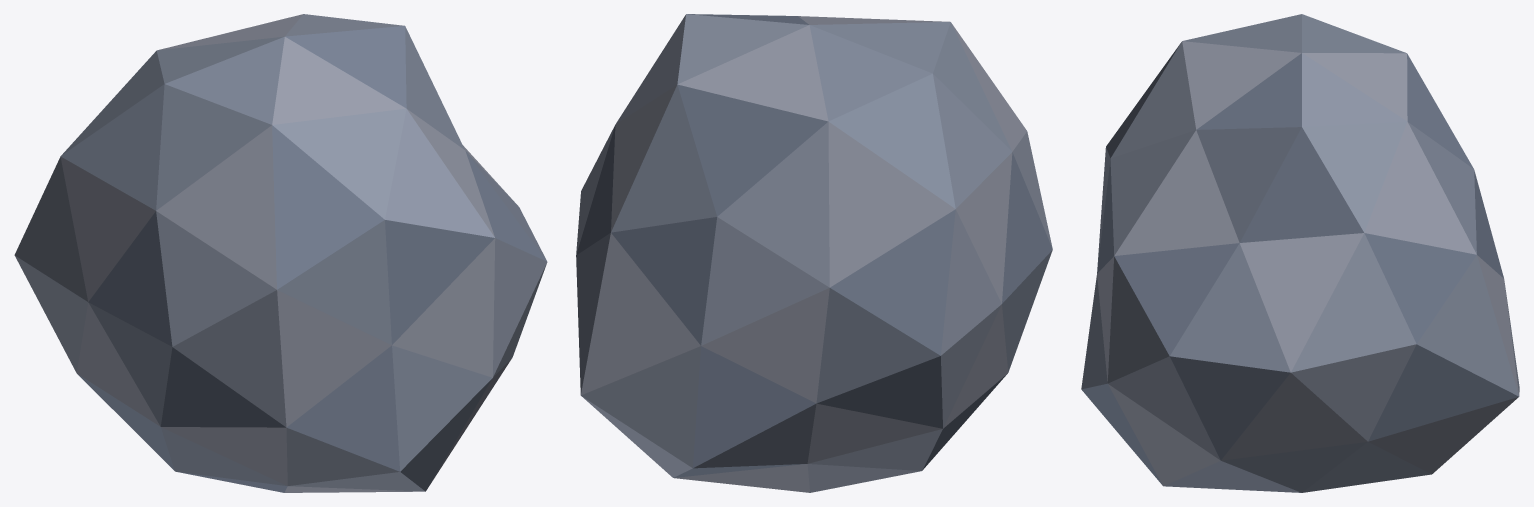
File: asteroid_4.gltf
3 renders of one model, left to right at view 1: azimuth 30°, elevation 25°; view 2: azimuth 150°, elevation 25°; view 3: azimuth 270°, elevation 25°, orthographic. The views are drawn at different scales.
Parts seen in each view (by area): view 1: asteroid_4; view 2: asteroid_4; view 3: asteroid_4.
Boxes of the visible parts, x1=… form: asteroid_4: x1=14, y1=14, x2=547, y2=492; asteroid_4: x1=576, y1=14, x2=1052, y2=492; asteroid_4: x1=1081, y1=14, x2=1519, y2=492.
Bounding box in the file's own units: 2.03 × 2.07 × 1.88.
